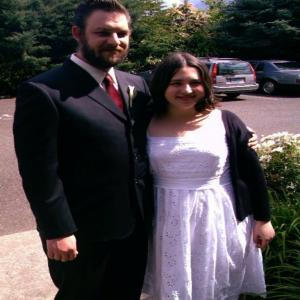Vehicle-registration-plate: (230, 78, 240, 84)
